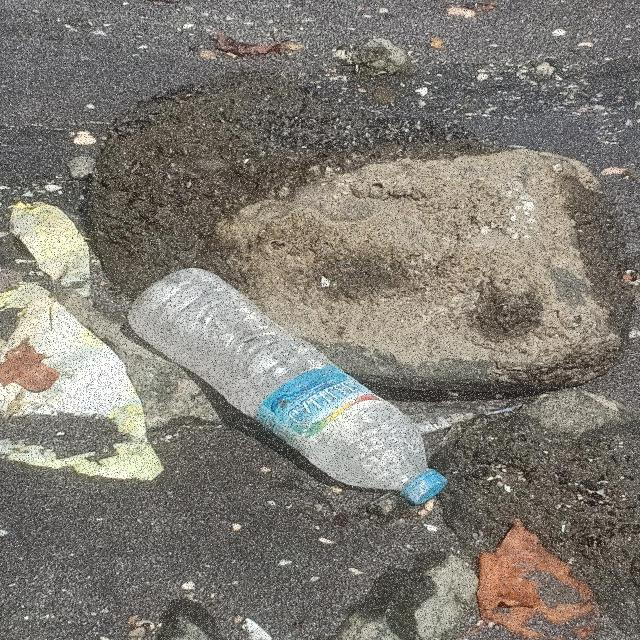plastic_waste: (126, 268, 450, 505)
